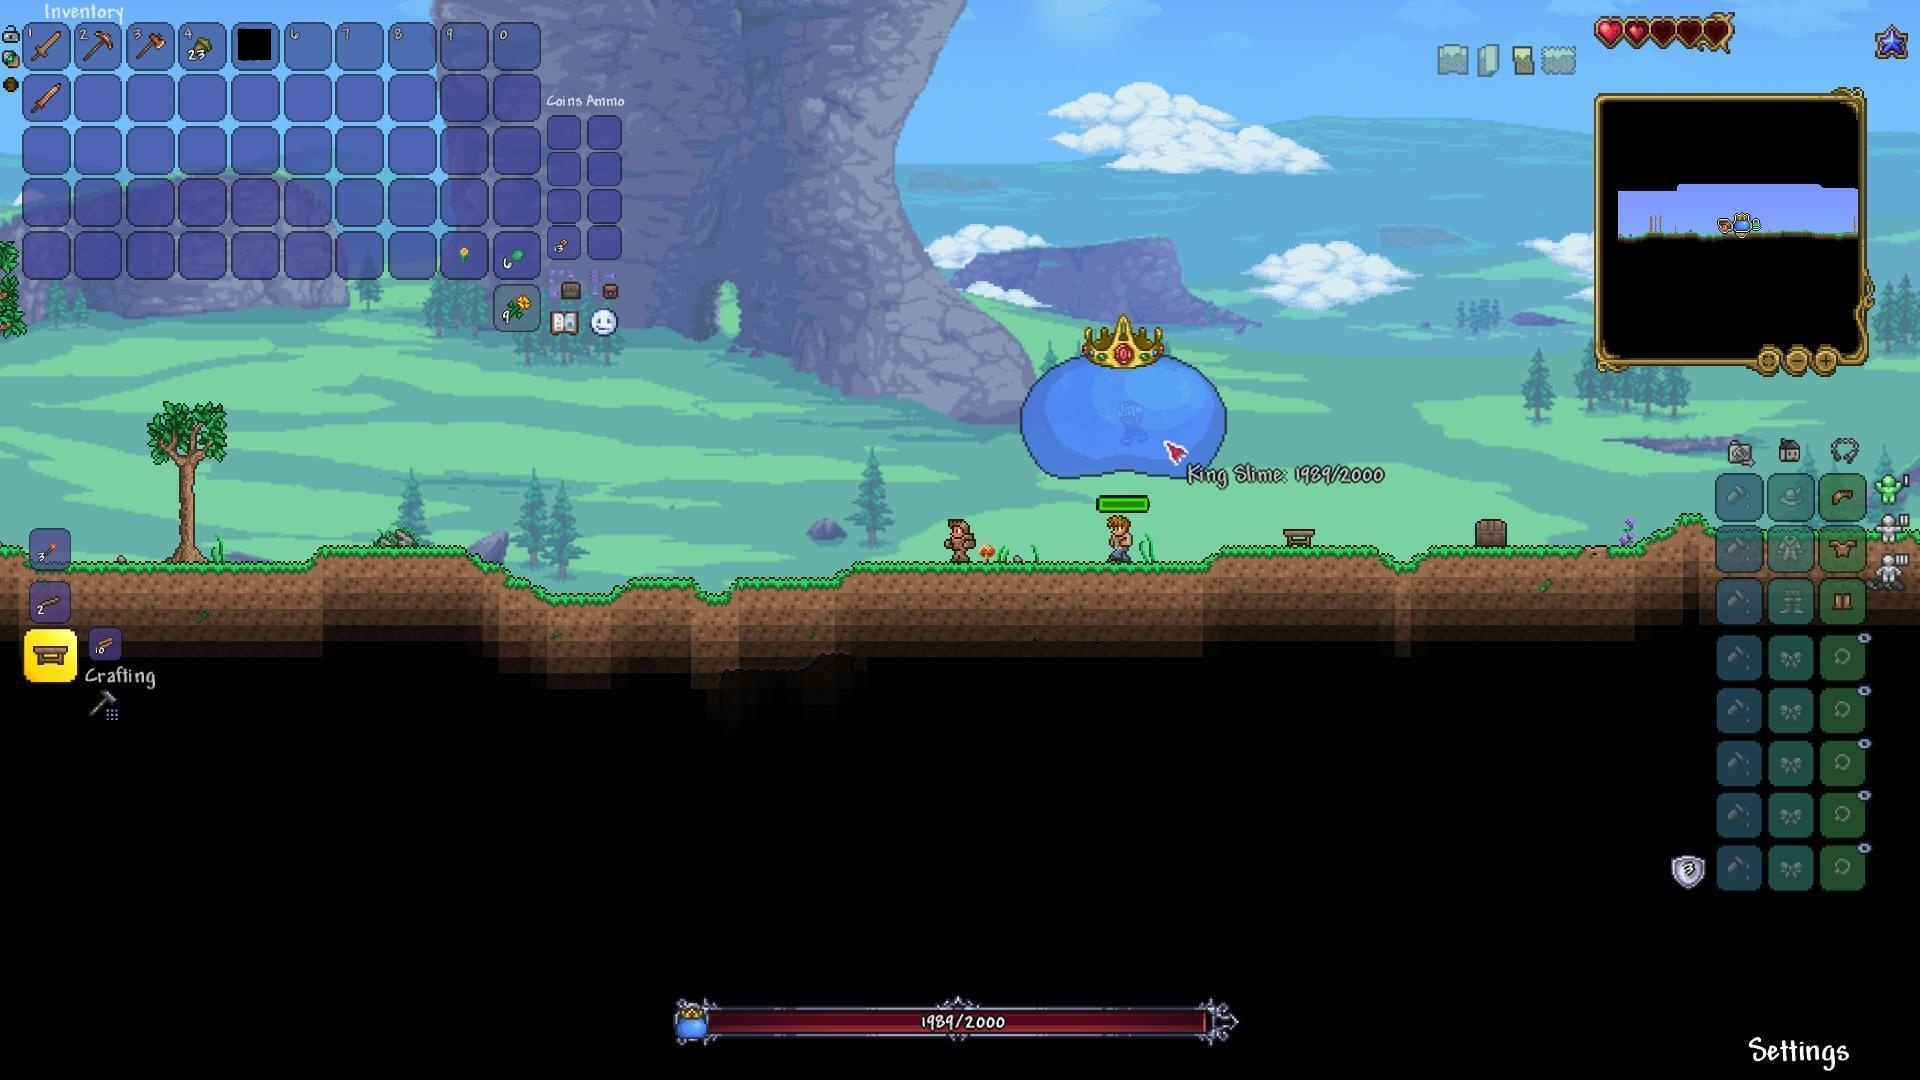breastplate: (1830, 538, 1859, 559)
helmet: (1828, 483, 1859, 510)
legs: (1832, 588, 1855, 615)
wood: (88, 629, 120, 659)
workbench: (1279, 525, 1316, 550), (32, 641, 69, 666)
